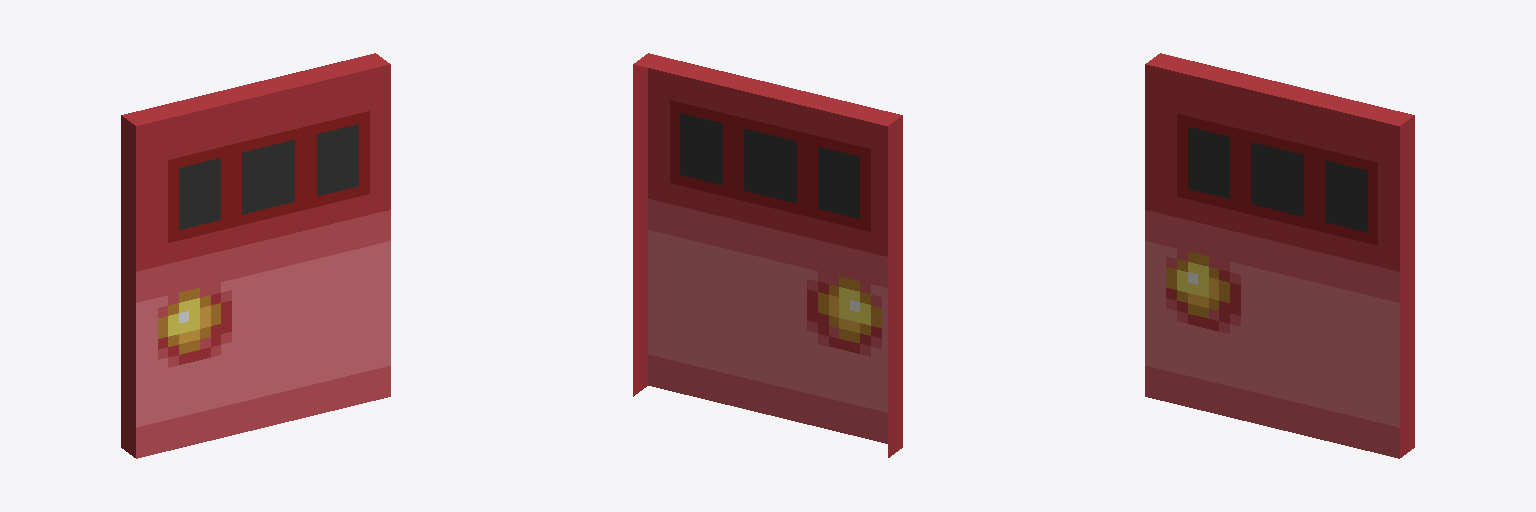
The picture shows the model from 3 angles: view 1: azimuth 30°, elevation 25°; view 2: azimuth 150°, elevation 25°; view 3: azimuth 330°, elevation 25°; orthographic projection.
Visible parts, largest first — view 1: polygon0; view 2: polygon0; view 3: polygon0.
Part boxes in pixels (bbox=[...]): polygon0: bbox=[121, 53, 390, 458]; polygon0: bbox=[633, 53, 902, 457]; polygon0: bbox=[1145, 53, 1414, 458].
Bounding box in the file's own units: 2.5 × 3.12 × 0.2577.
Materials: 1 (1 with a texture image).